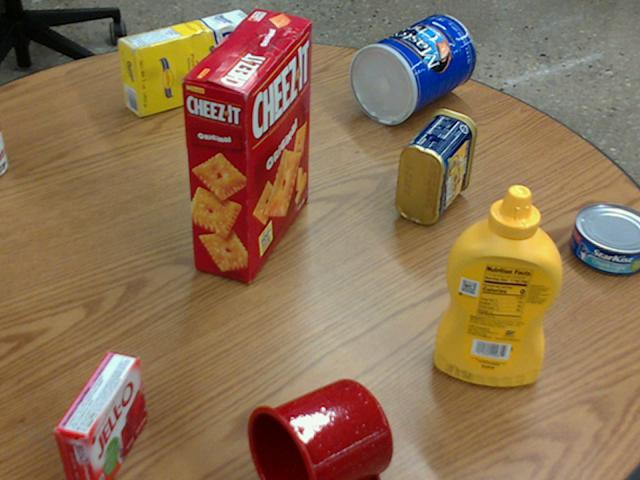cracker_box: (181, 9, 312, 282)
gelatin_box: (48, 351, 142, 479)
master_chef_can: (348, 13, 474, 123)
mug: (243, 379, 391, 479)
mustard_bottle: (432, 185, 560, 385)
potted_meat_can: (395, 108, 475, 223)
sugar_box: (118, 8, 255, 114)
tomato_soup_can: (0, 131, 6, 174)
tuna_fish_can: (568, 203, 639, 275)
